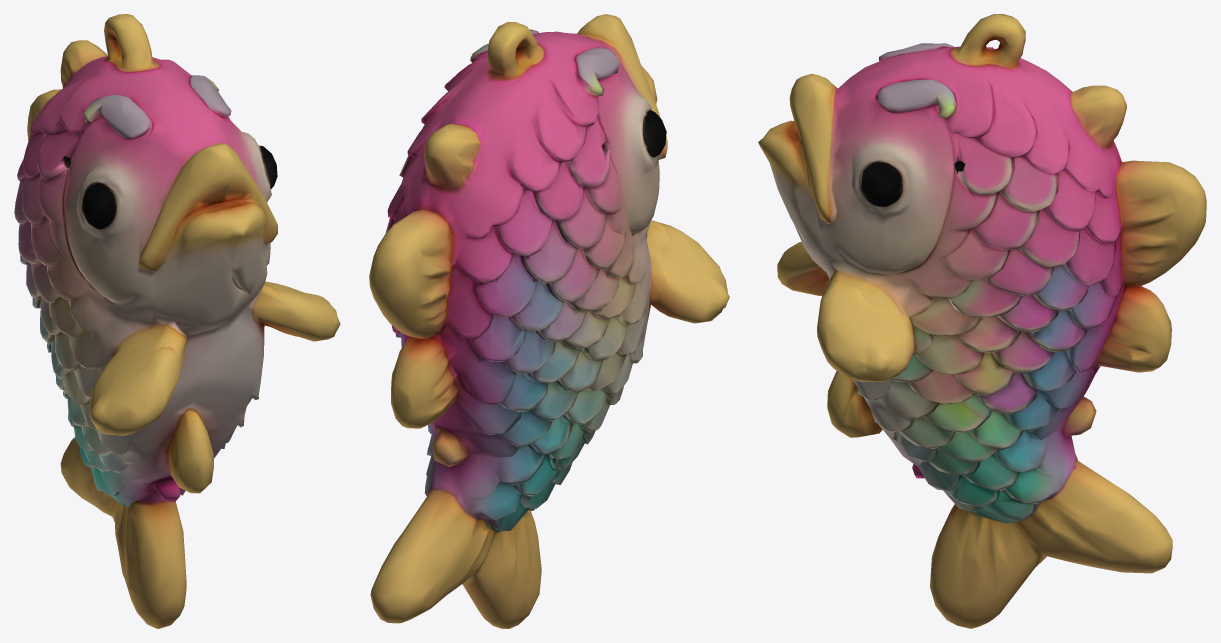
The model's file is rainbow_trout.glb.
3 renders of one model, left to right at view 1: azimuth 30°, elevation 25°; view 2: azimuth 150°, elevation 25°; view 3: azimuth 270°, elevation 25°, orthographic. The views are drawn at different scales.
Visible parts, largest first — view 1: tripo_node_22e9f2bf-35fc-451c-a85b-5318d81ba77c; view 2: tripo_node_22e9f2bf-35fc-451c-a85b-5318d81ba77c; view 3: tripo_node_22e9f2bf-35fc-451c-a85b-5318d81ba77c.
Part boxes in pixels (x1,y1,x2,y2): tripo_node_22e9f2bf-35fc-451c-a85b-5318d81ba77c: [14, 14, 340, 628]; tripo_node_22e9f2bf-35fc-451c-a85b-5318d81ba77c: [369, 14, 729, 628]; tripo_node_22e9f2bf-35fc-451c-a85b-5318d81ba77c: [758, 14, 1206, 628].
Bounding box in the file's own units: 0.4537 × 0.9792 × 0.6612.
Materials: 1 (1 with a texture image).
